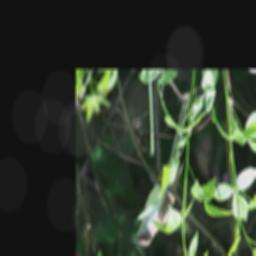Cuckoo: (128, 95, 190, 247)
